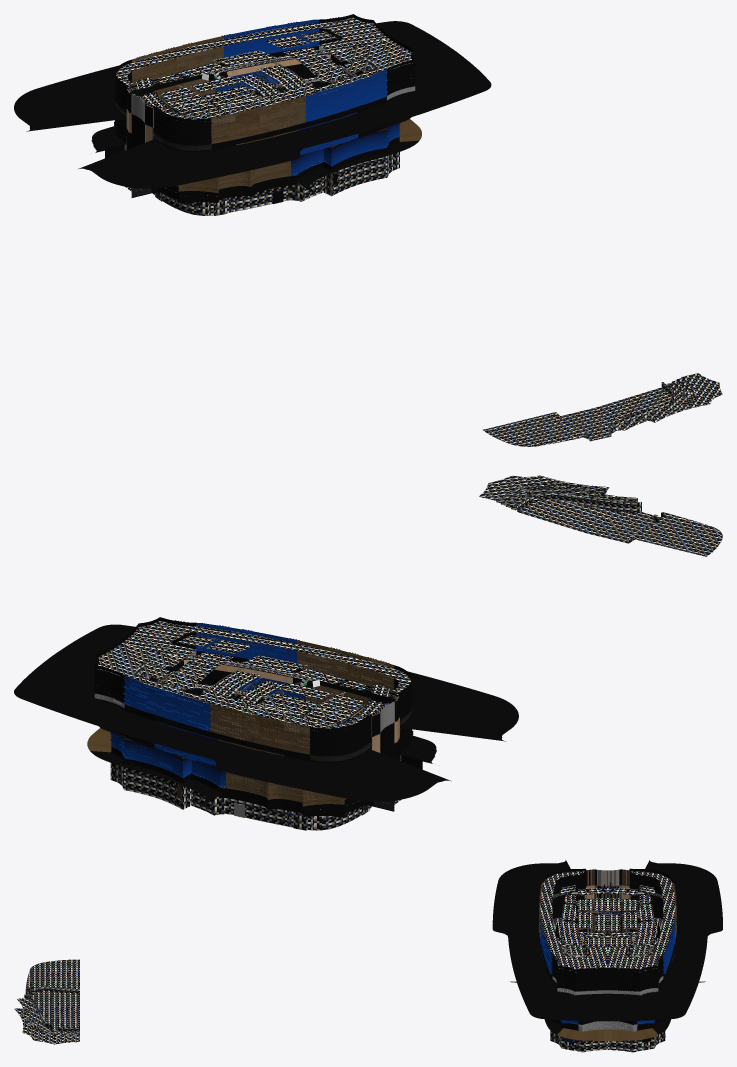
3 views of the same model, one above another, from view 1: azimuth 30°, elevation 25°; view 2: azimuth 150°, elevation 25°; view 3: azimuth 270°, elevation 25° (orthographic). The views are drawn at different scales.
Parts seen in each view (by area): view 1: barrier.001, walls.003, ceiling-panels, floor.008, option best, walls.007, walls.001, barrier, Plane.032, barrier.002; view 2: barrier.001, walls.003, ceiling-panels, floor.008, option best, walls.007, walls.001, barrier, Plane.032, barrier.002, floor.001; view 3: barrier.001, ceiling-panels, walls.003, floor.008, barrier, walls.007, Plane.032, option best, walls.001, organs-background-sides.
Boxes of the visible parts, <box> form: barrier.001: <box>14,21,491,188</box>; walls.003: <box>114,14,415,150</box>; ceiling-panels: <box>116,17,412,122</box>; floor.008: <box>483,373,722,446</box>; option best: <box>105,106,400,203</box>; walls.007: <box>152,152,399,215</box>; walls.001: <box>114,61,406,154</box>; barrier: <box>293,119,421,194</box>; Plane.032: <box>126,89,153,149</box>; barrier.002: <box>91,81,410,152</box>; barrier.001: <box>14,624,518,801</box>; walls.003: <box>94,617,412,761</box>; ceiling-panels: <box>96,620,410,731</box>; floor.008: <box>479,475,722,556</box>; option best: <box>110,695,422,817</box>; walls.007: <box>110,763,371,830</box>; walls.001: <box>103,666,413,766</box>; barrier: <box>87,728,222,807</box>; Plane.032: <box>371,696,399,760</box>; barrier.002: <box>99,688,436,763</box>; floor.001: <box>95,643,395,698</box>; barrier.001: <box>492,860,722,1021</box>; ceiling-panels: <box>540,871,675,972</box>; walls.003: <box>539,868,676,995</box>; floor.008: <box>14,959,79,1044</box>; barrier: <box>510,981,705,1040</box>; walls.007: <box>550,1030,665,1052</box>; Plane.032: <box>586,869,629,932</box>; option best: <box>550,923,665,1031</box>; walls.001: <box>538,895,676,985</box>; organs-background-sides: <box>587,869,629,932</box>.
Bounding box in the file's own units: 78.67 × 19.96 × 146.
1 material, 1 textured.
